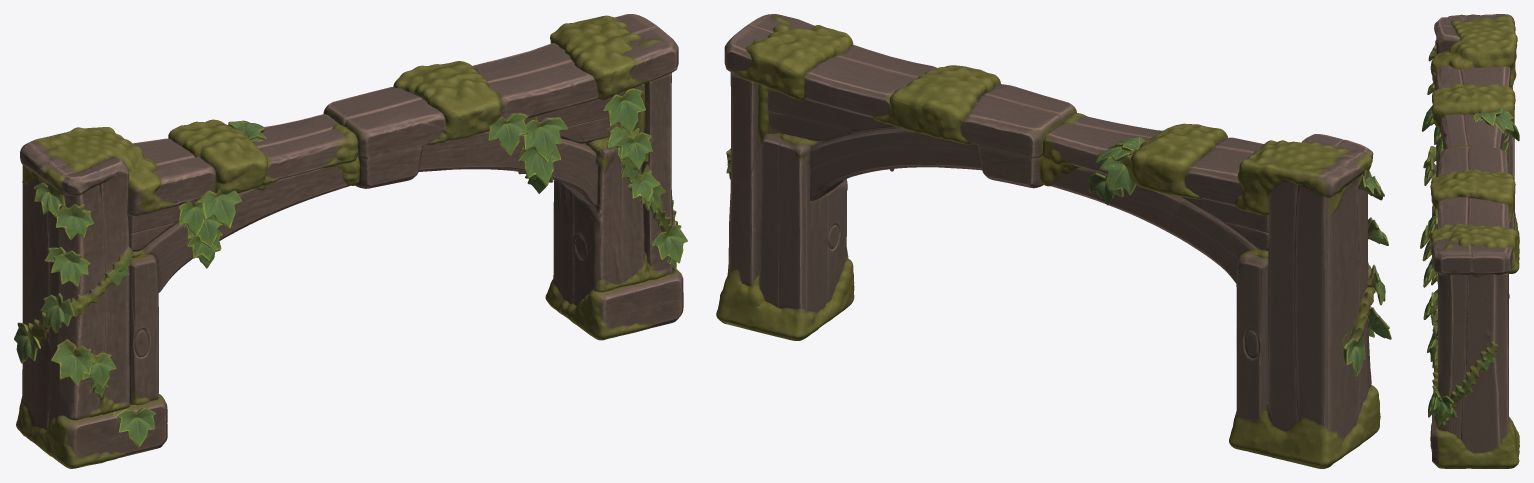
The model's file is wall-00.obj.
3 renders of one model, left to right at view 1: azimuth 30°, elevation 25°; view 2: azimuth 150°, elevation 25°; view 3: azimuth 270°, elevation 25°, orthographic. The views are drawn at different scales.
Visible parts, largest first — view 1: Meshy_AI_Mossy_Wooden_Arch_0919053416_texture; view 2: Meshy_AI_Mossy_Wooden_Arch_0919053416_texture; view 3: Meshy_AI_Mossy_Wooden_Arch_0919053416_texture.
Part boxes in pixels (x1,y1,x2,y2): Meshy_AI_Mossy_Wooden_Arch_0919053416_texture: (14, 14, 687, 468); Meshy_AI_Mossy_Wooden_Arch_0919053416_texture: (716, 14, 1391, 468); Meshy_AI_Mossy_Wooden_Arch_0919053416_texture: (1420, 14, 1519, 468).
Bounding box in the file's own units: 1.9 × 0.8358 × 0.3334.
Materials: 1 (1 with a texture image).
